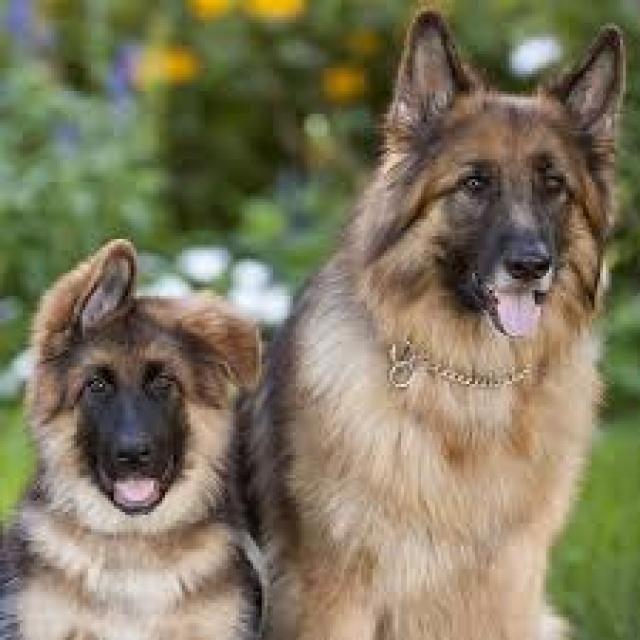Dog: (267, 8, 631, 640), (0, 234, 267, 640)
